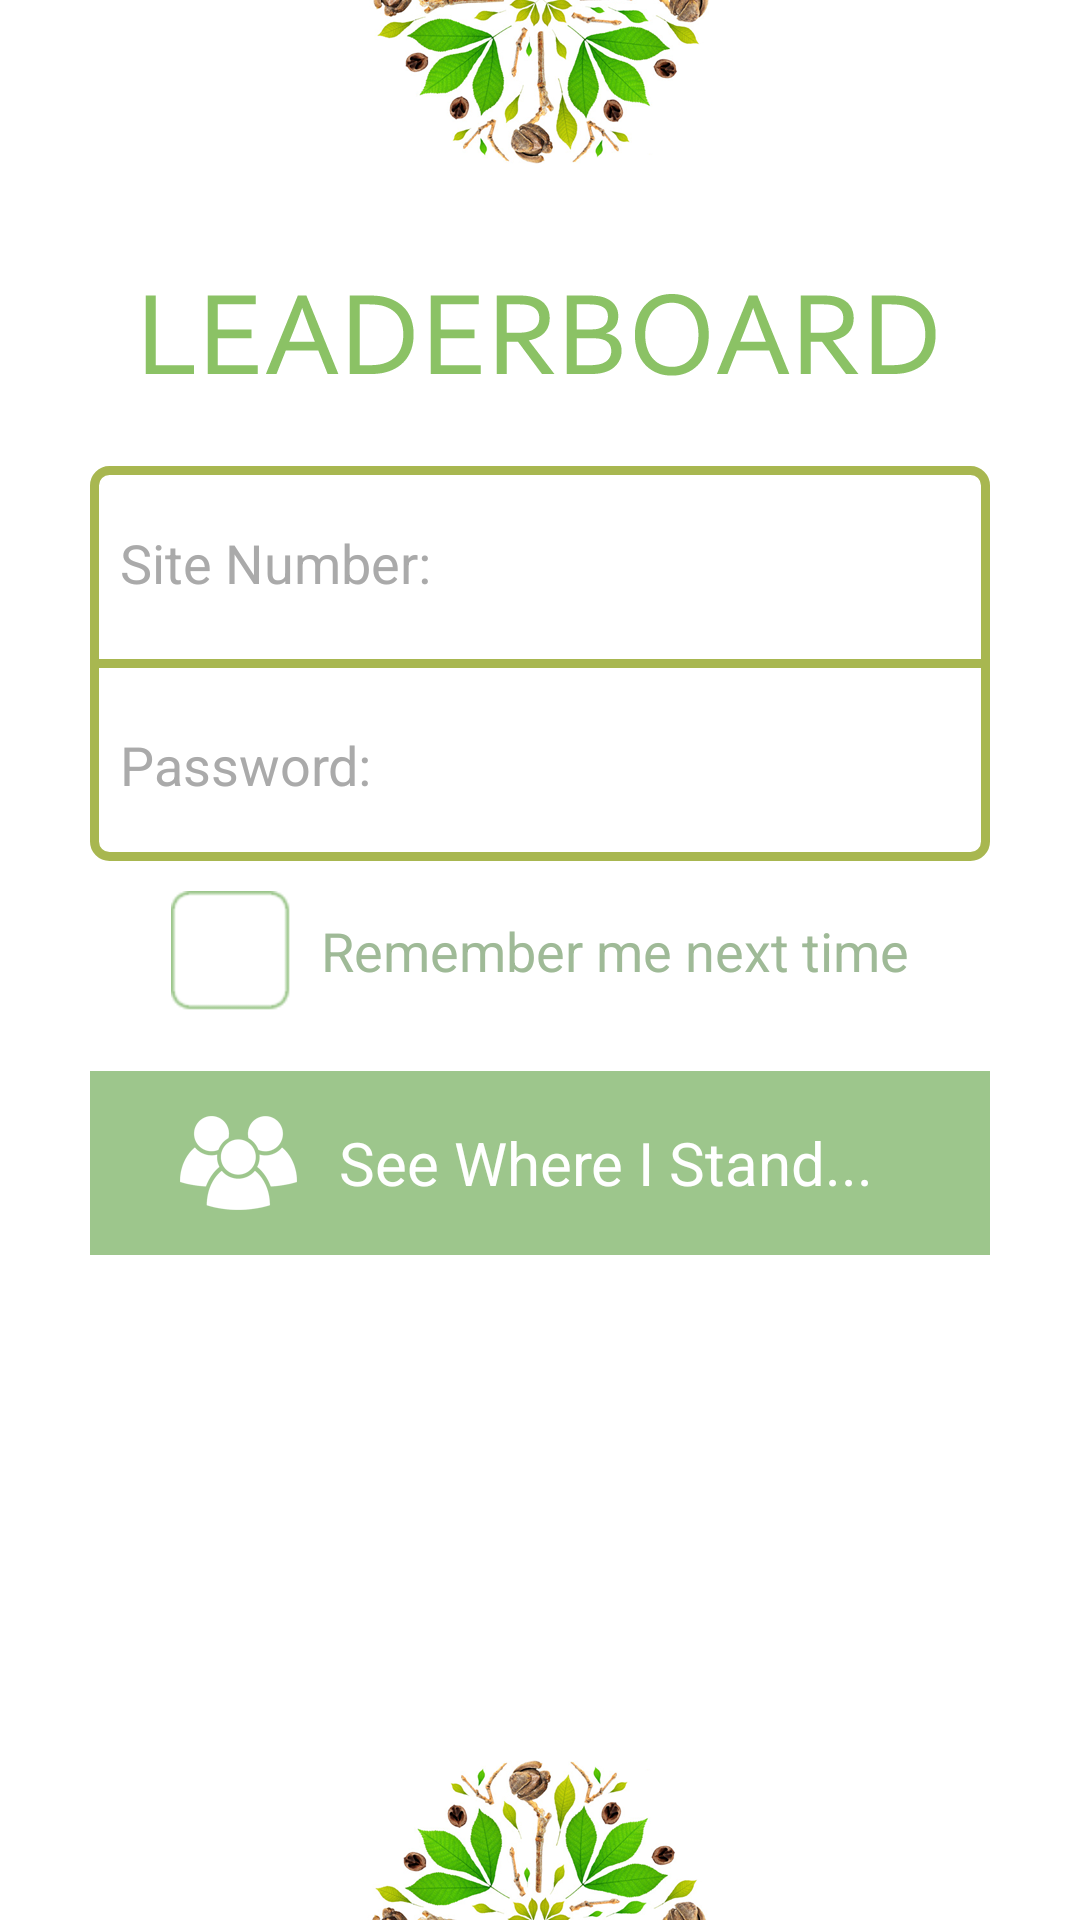

Locate icon controls on the screen. Image size 1080w x 1920h, boxes as (x1, y1, x2, y2).
remember unchecked: (171, 891, 290, 1010)
user: (180, 1116, 297, 1210)
